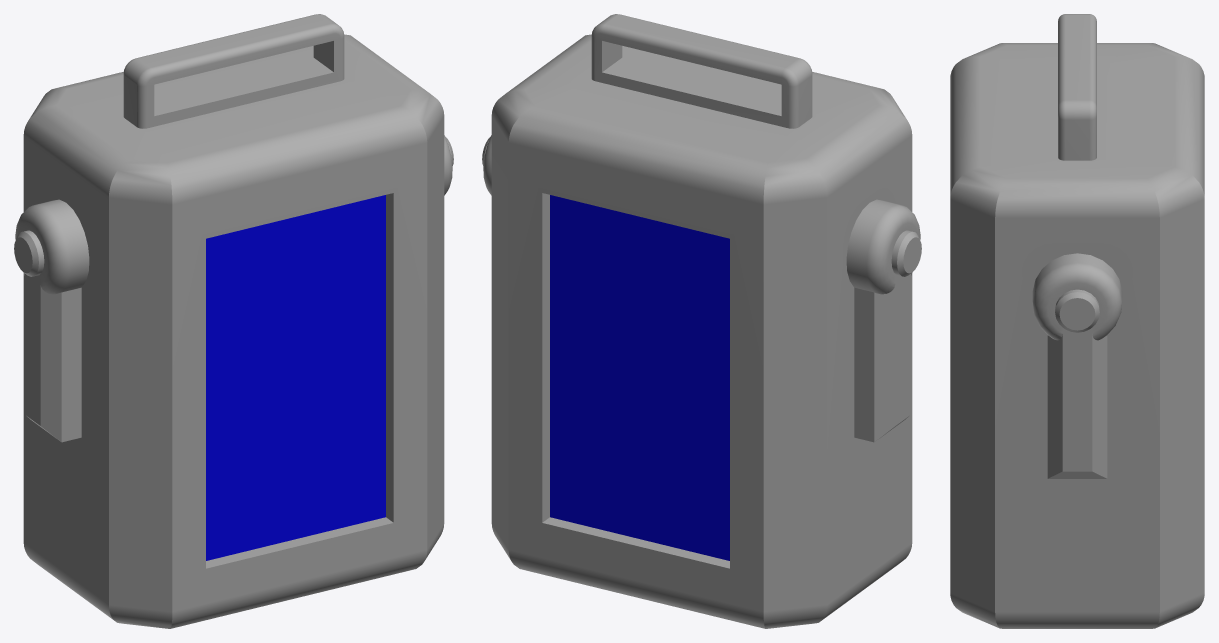
File: Health_Pack03.fbx
3 views of the same model, side by side, from view 1: azimuth 30°, elevation 25°; view 2: azimuth 150°, elevation 25°; view 3: azimuth 270°, elevation 25° (orthographic). The views are drawn at different scales.
Parts seen in each view (by area): view 1: Health_Pack03; view 2: Health_Pack03; view 3: Health_Pack03.
Part boxes in pixels (box(x1,y1,x2,y2)): Health_Pack03: box(14, 14, 453, 628); Health_Pack03: box(482, 14, 921, 628); Health_Pack03: box(950, 14, 1204, 628).
Bounding box in the file's own units: 31.4 × 37 × 17.
